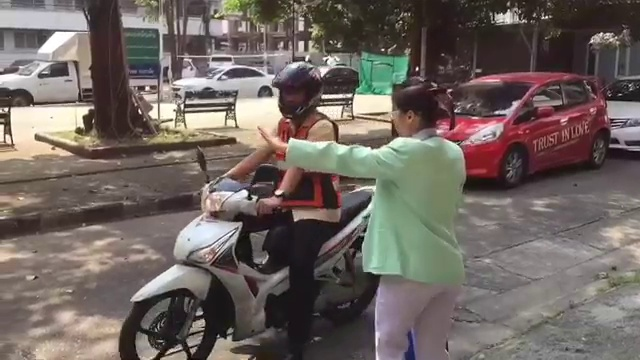helmet: (269, 62, 322, 115)
